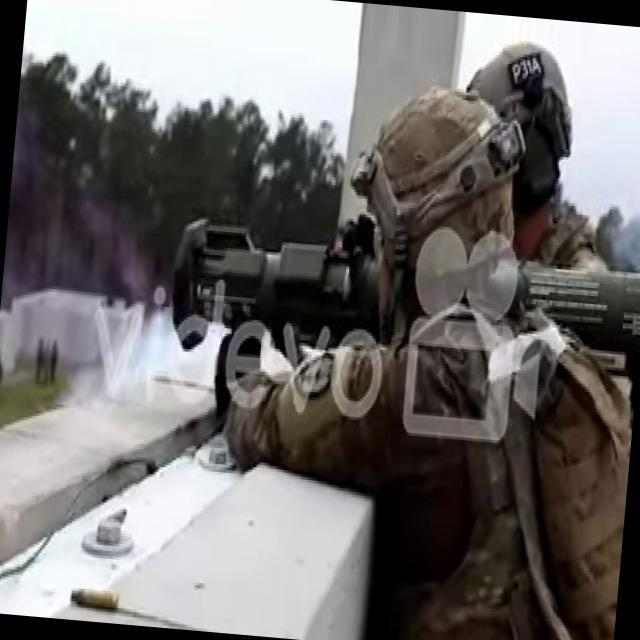rocket: (162, 216, 640, 387)
